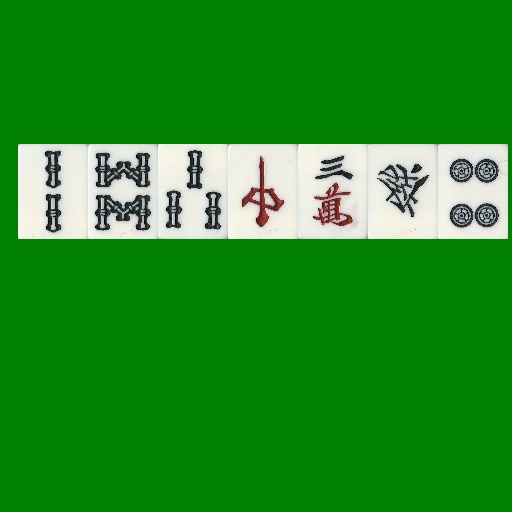2s: (18, 144, 88, 239)
3m: (298, 144, 368, 239)
3s: (158, 144, 228, 239)
4p: (438, 144, 508, 239)
8s: (88, 144, 158, 239)
hatsu: (368, 144, 438, 239)
tyun: (228, 144, 298, 239)
